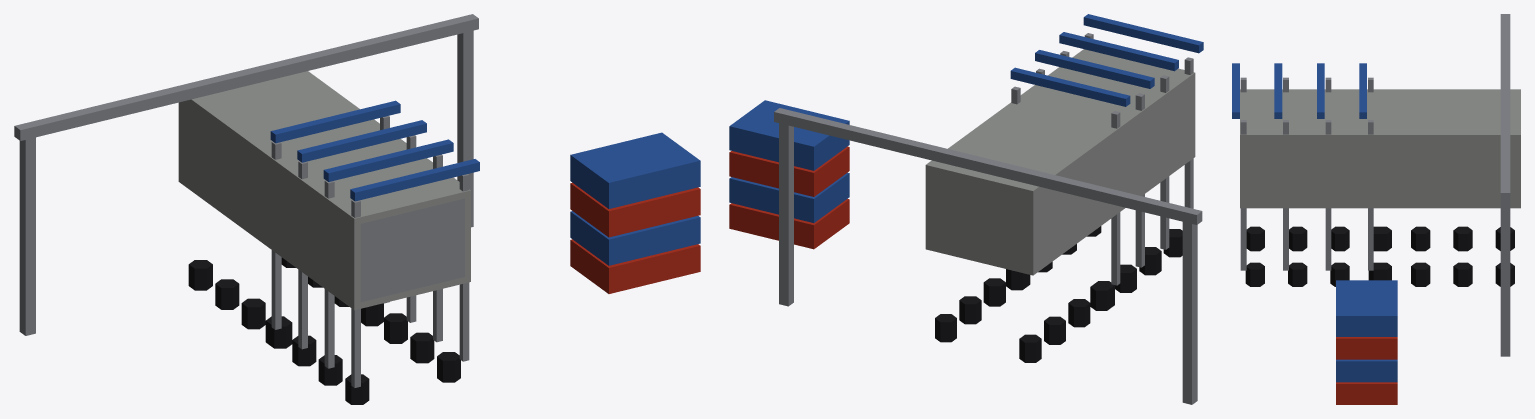
Rendered from prop_trolley-bay.014aeaef53e7.glb.
3 renders of one model, left to right at view 1: azimuth 30°, elevation 25°; view 2: azimuth 150°, elevation 25°; view 3: azimuth 270°, elevation 25°, orthographic. The views are drawn at different scales.
Parts seen in each view (by area): view 1: body; view 2: body; view 3: body.
Boxes of the visible parts, left/top/right/bottom form: body: left=14, top=14, right=700, bottom=404; body: left=729, top=14, right=1203, bottom=404; body: left=1232, top=14, right=1520, bottom=404.
Bounding box in the file's own units: 2.77 × 1.04 × 1.5.
